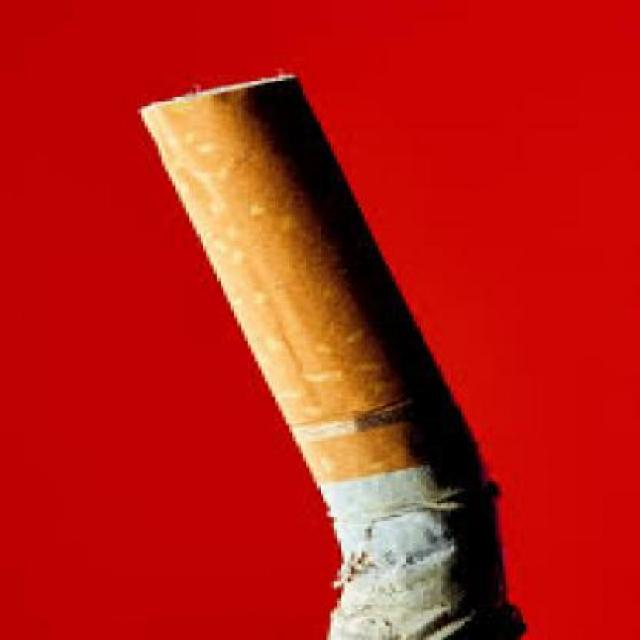cigarette: (124, 60, 558, 638)
